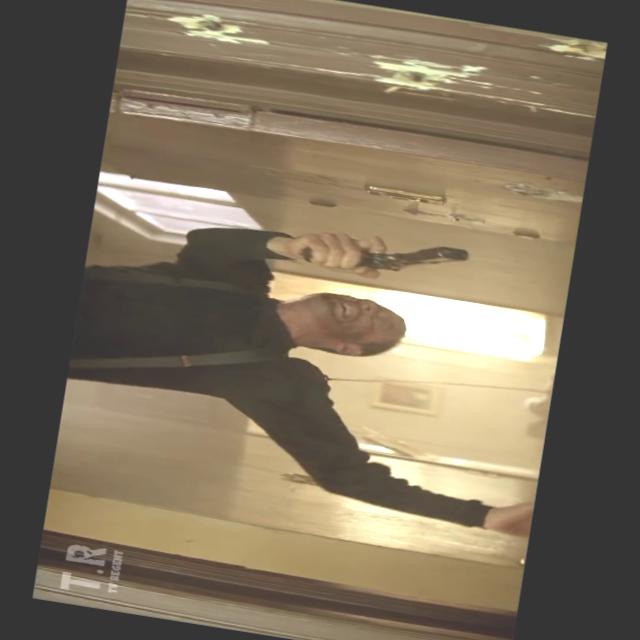handgun: (286, 206, 474, 304)
